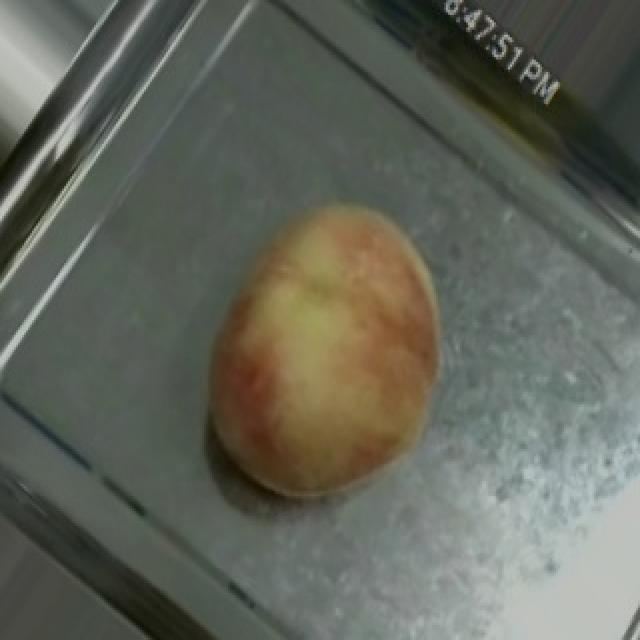Fruit: (164, 156, 494, 556)
